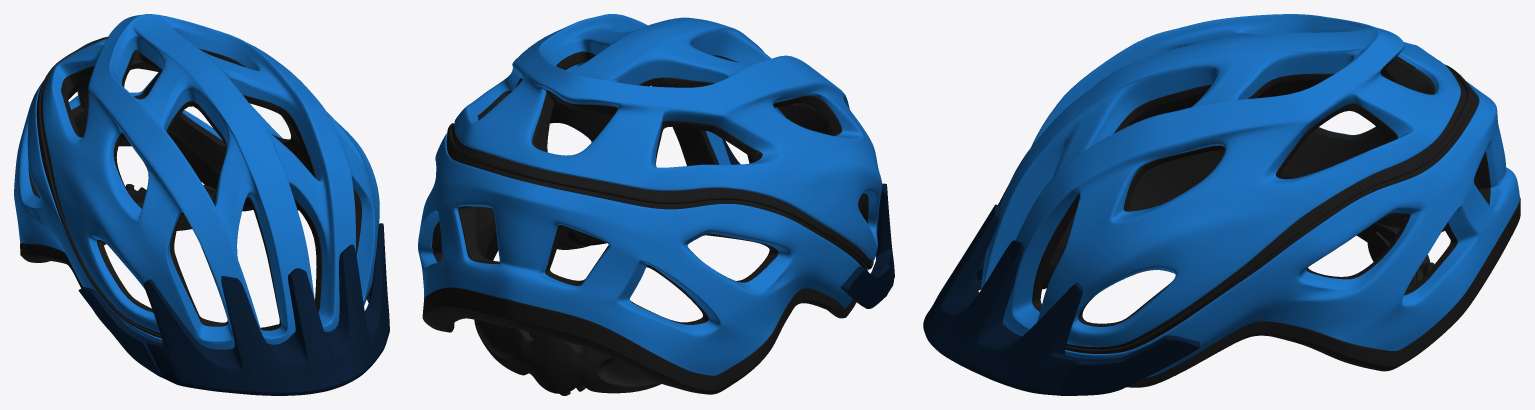
File: helmet-transformed.glb
3 renders of one model, left to right at view 1: azimuth 30°, elevation 25°; view 2: azimuth 150°, elevation 25°; view 3: azimuth 270°, elevation 25°, orthographic. The views are drawn at different scales.
Visible parts, largest first — view 1: polySurface8_Helmet_shell_0, polySurface16_Helmet_visor_0, _polySurface26_Helmet_main_cushion_0, polySurface26_Helmet_buckle_0; view 2: polySurface8_Helmet_shell_0, _polySurface26_Helmet_main_cushion_0, polySurface26_Helmet_buckle_0, polySurface16_Helmet_visor_0, polySurface29_Helmet_bukle_strap_0; view 3: polySurface8_Helmet_shell_0, _polySurface26_Helmet_main_cushion_0, polySurface16_Helmet_visor_0, polySurface26_Helmet_buckle_0.
Boxes of the visible parts, x1=… form: polySurface8_Helmet_shell_0: x1=14, y1=14, x2=379, y2=349; polySurface16_Helmet_visor_0: x1=78, y1=223, x2=389, y2=395; _polySurface26_Helmet_main_cushion_0: x1=20, y1=36, x2=371, y2=338; polySurface26_Helmet_buckle_0: x1=103, y1=184, x2=216, y2=245; polySurface8_Helmet_shell_0: x1=418, y1=14, x2=882, y2=375; _polySurface26_Helmet_main_cushion_0: x1=422, y1=51, x2=873, y2=394; polySurface26_Helmet_buckle_0: x1=474, y1=319, x2=660, y2=395; polySurface16_Helmet_visor_0: x1=591, y1=130, x2=894, y2=308; polySurface29_Helmet_bukle_strap_0: x1=482, y1=224, x2=606, y2=260; polySurface8_Helmet_shell_0: x1=981, y1=14, x2=1519, y2=377; _polySurface26_Helmet_main_cushion_0: x1=1032, y1=56, x2=1520, y2=387; polySurface16_Helmet_visor_0: x1=923, y1=185, x2=1199, y2=395; polySurface26_Helmet_buckle_0: x1=1367, y1=224, x2=1434, y2=289.
Bounding box in the file's own units: 32.82 × 27.48 × 49.82.
